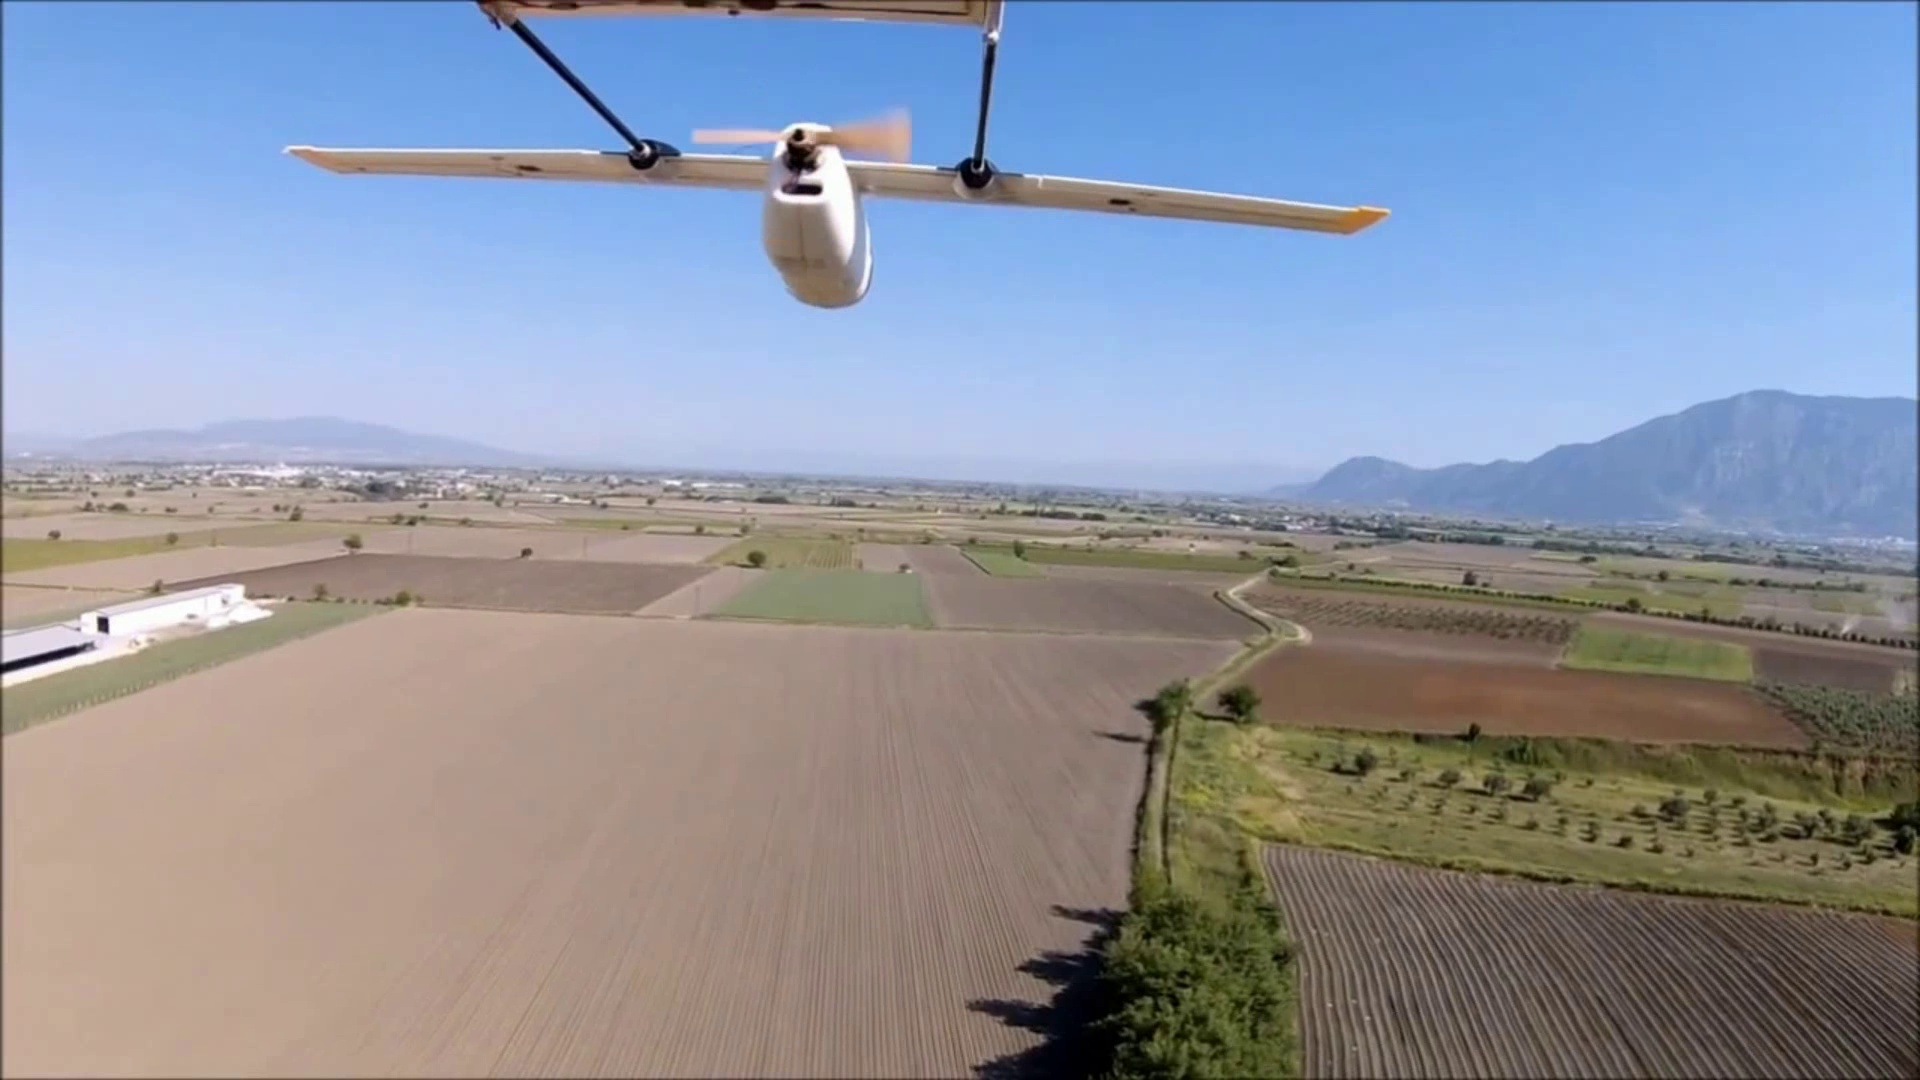airplane: (284, 3, 1387, 306)
